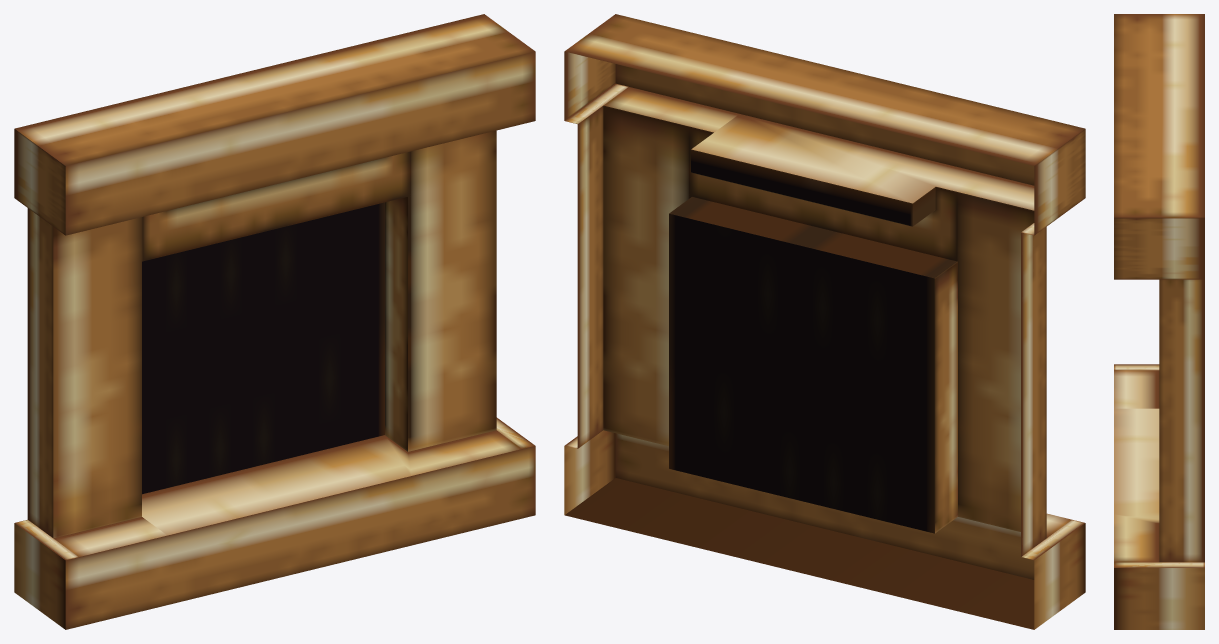
File: Poly_Window_13.obj
3 renders of one model, left to right at view 1: azimuth 30°, elevation 25°; view 2: azimuth 150°, elevation 25°; view 3: azimuth 270°, elevation 25°, orthographic. The views are drawn at different scales.
Visible parts, largest first — view 1: Cube.001_Cube; view 2: Cube.001_Cube; view 3: Cube.001_Cube.
Part boxes in pixels (bbox=[...]): Cube.001_Cube: bbox=[14, 14, 535, 629]; Cube.001_Cube: bbox=[564, 14, 1085, 629]; Cube.001_Cube: bbox=[1114, 14, 1204, 629].
Bounding box in the file's own units: 1.06 × 1 × 0.2.
Materials: 1 (1 with a texture image).
